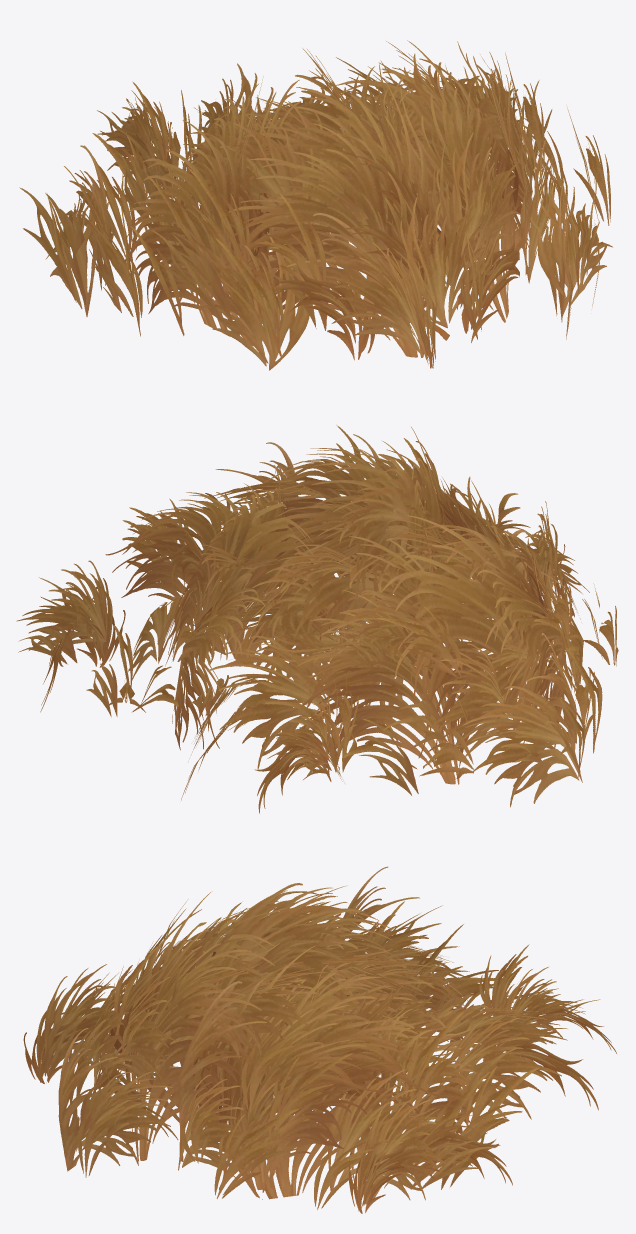
The picture shows the model from 3 angles, top to bottom: view 1: azimuth 30°, elevation 25°; view 2: azimuth 150°, elevation 25°; view 3: azimuth 270°, elevation 25°; orthographic projection. The views are drawn at different scales.
Bounding box in the file's own units: 11.32 × 5.76 × 11.76.
1 material, 1 textured.
